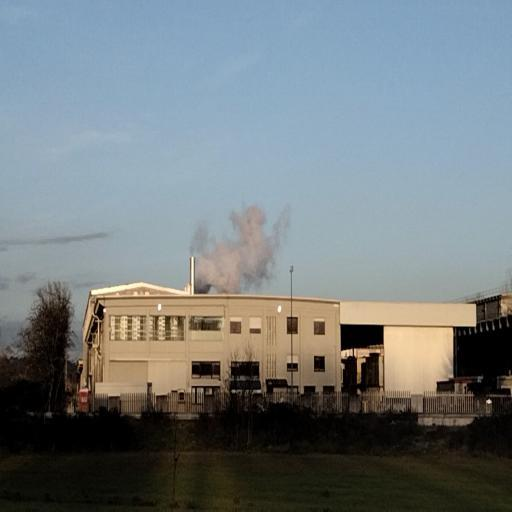leakage: (188, 195, 292, 293)
